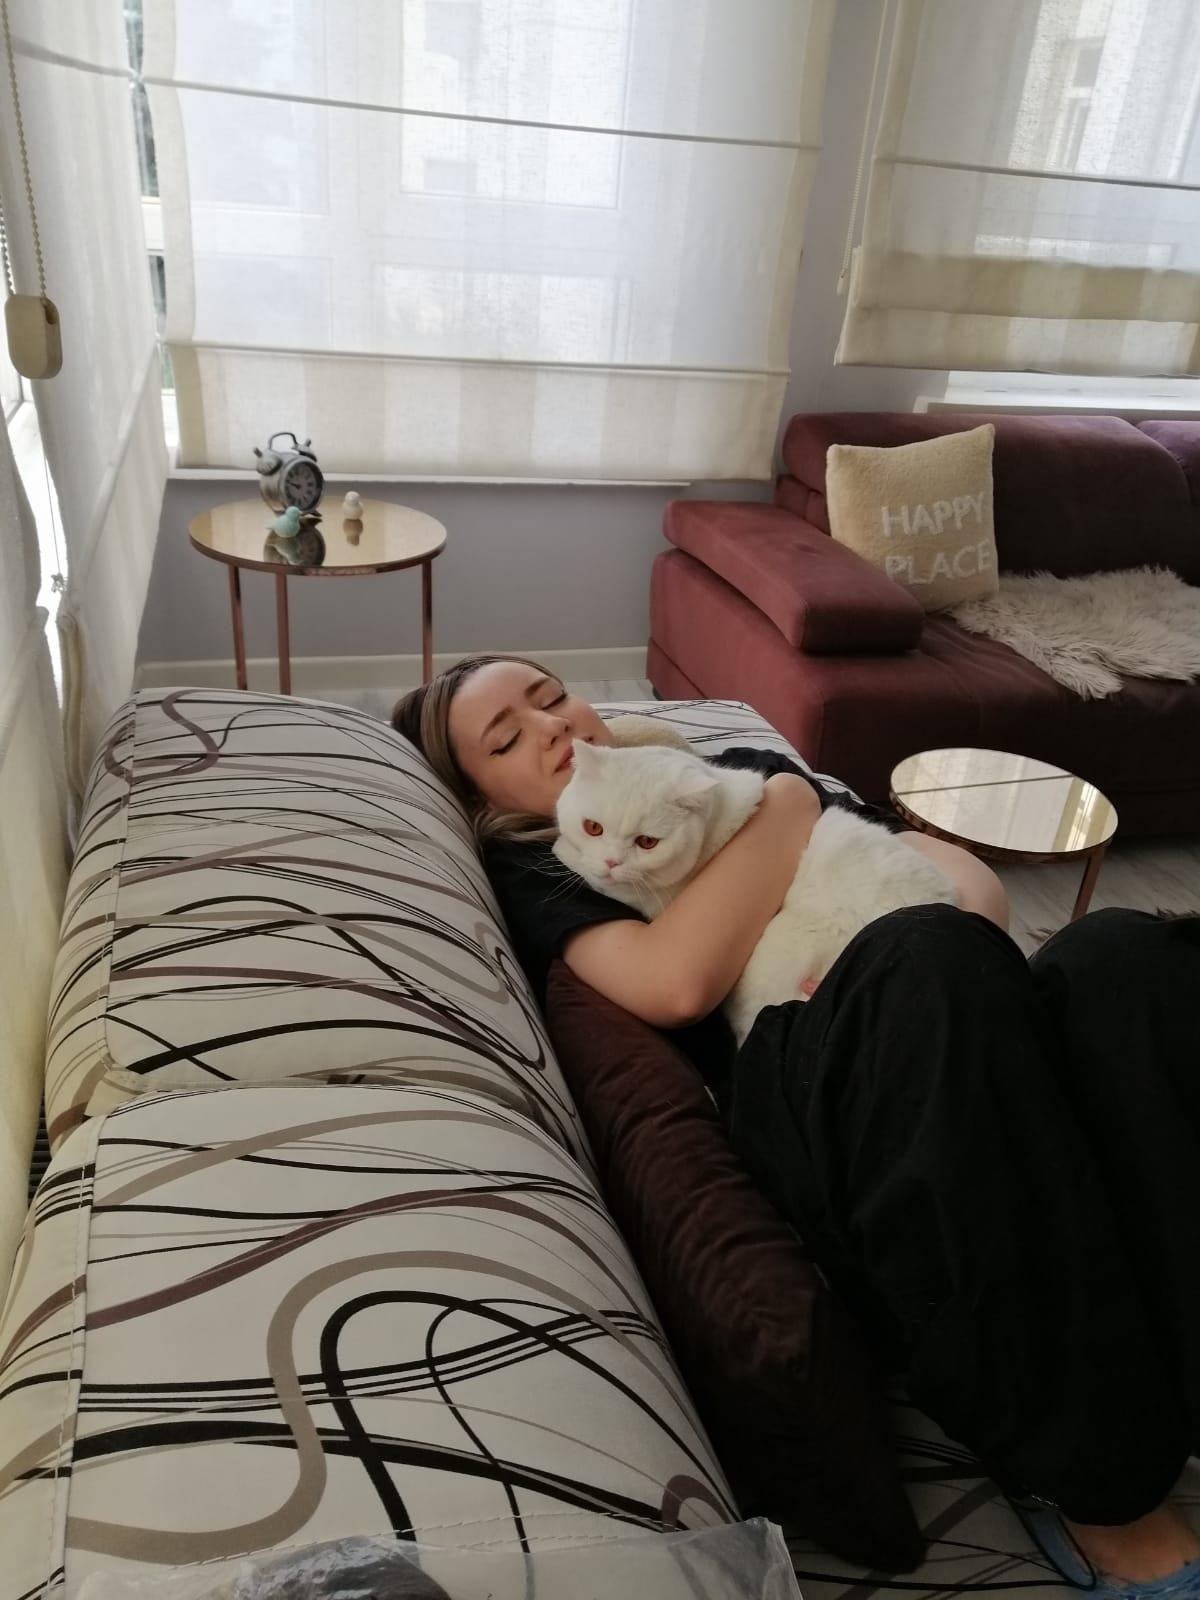kedo: (550, 737, 958, 1018)
